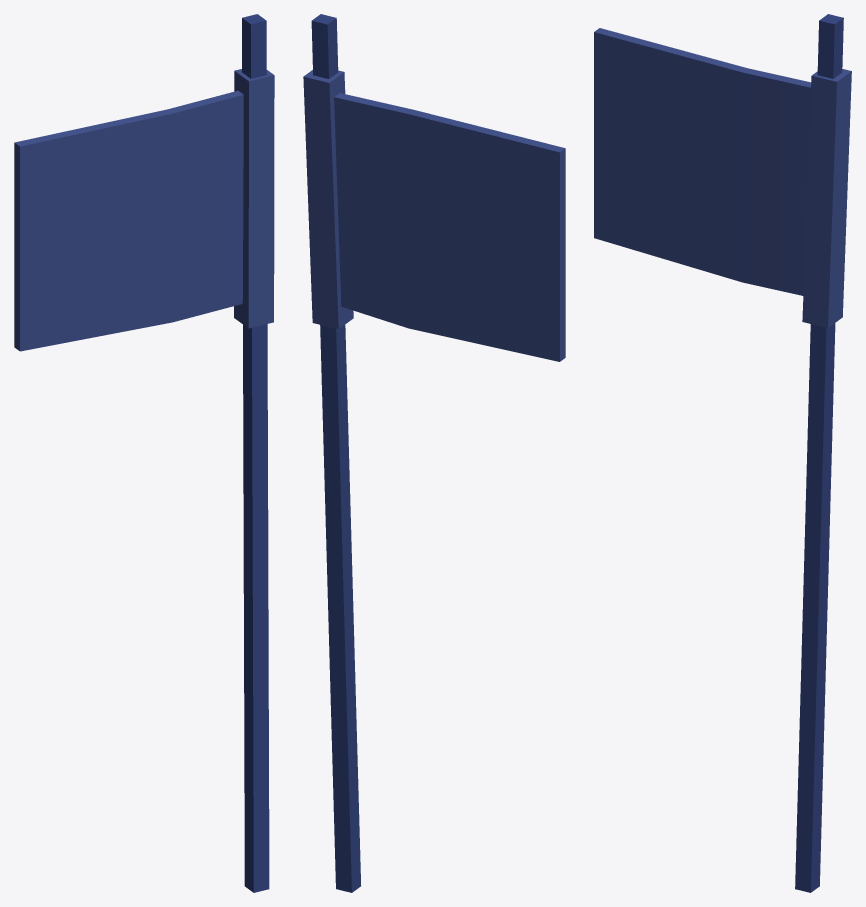
The model's file is FlagA.obj.
3 views of the same model, side by side, from view 1: azimuth 30°, elevation 25°; view 2: azimuth 150°, elevation 25°; view 3: azimuth 330°, elevation 25° (orthographic). The views are drawn at different scales.
Bounding box in the file's own units: 0.9095 × 3 × 0.1603.
Materials: 1 (1 with a texture image).
